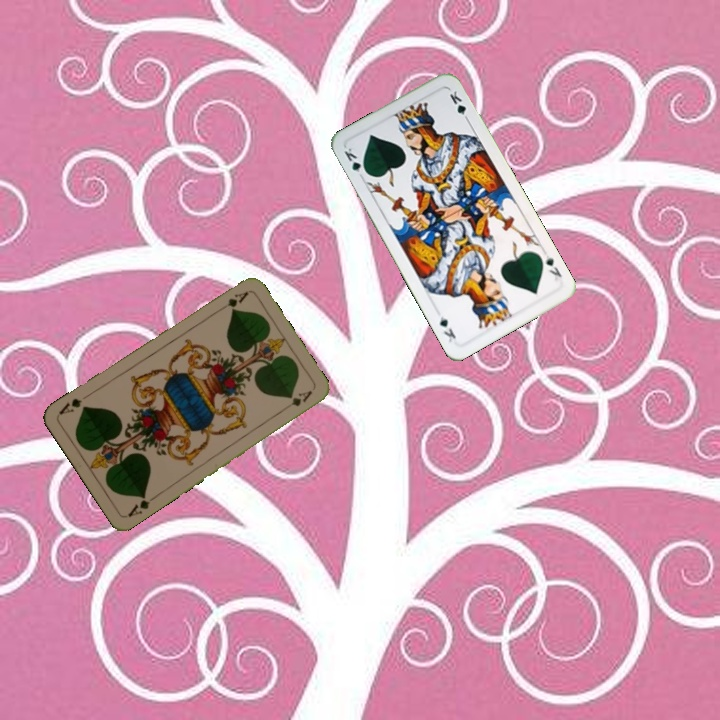GA: (214, 287, 251, 315), (124, 491, 159, 520)
GK: (340, 144, 370, 181), (542, 251, 564, 283)
